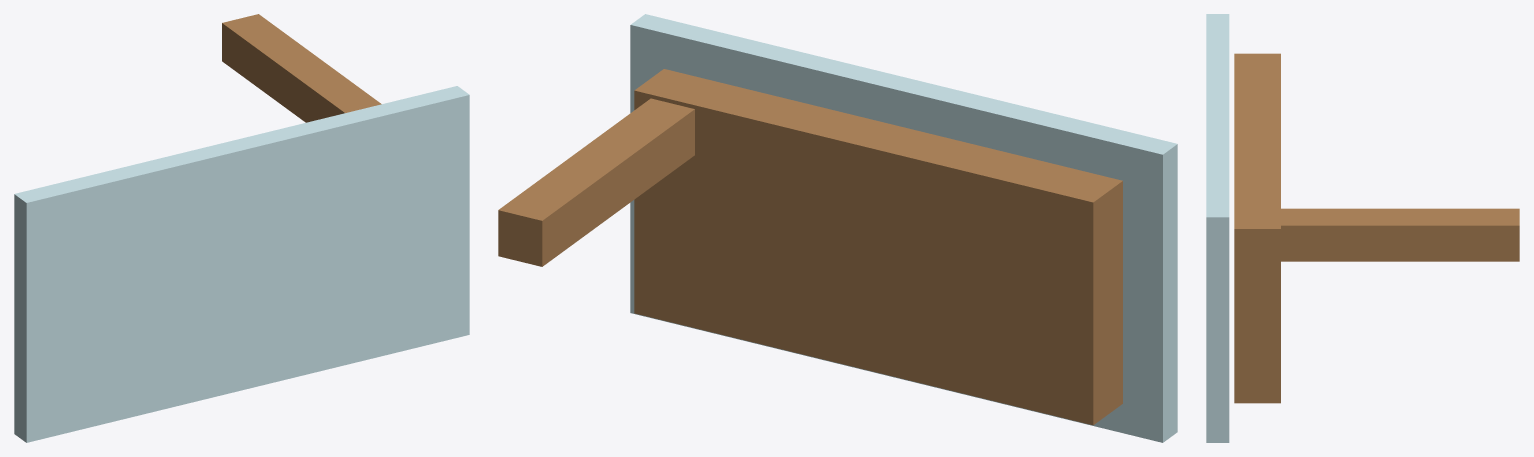
File: coffee-tables.glb
3 views of the same model, side by side, from view 1: azimuth 30°, elevation 25°; view 2: azimuth 150°, elevation 25°; view 3: azimuth 270°, elevation 25° (orthographic). The views are drawn at different scales.
Parts seen in each view (by area): view 1: GlassTop, Leg; view 2: Frame, GlassTop, Leg; view 3: Frame, Leg, GlassTop.
Boxes of the visible parts, bbox=[...] form: GlassTop: bbox=[14, 86, 469, 442]; Leg: bbox=[222, 14, 381, 122]; Frame: bbox=[634, 69, 1122, 425]; GlassTop: bbox=[630, 14, 1177, 442]; Leg: bbox=[498, 98, 694, 266]; Frame: bbox=[1234, 53, 1280, 403]; Leg: bbox=[1281, 208, 1519, 261]; GlassTop: bbox=[1206, 14, 1229, 442].
Bounding box in the file's own units: 1.45 × 0.75 × 0.945.
